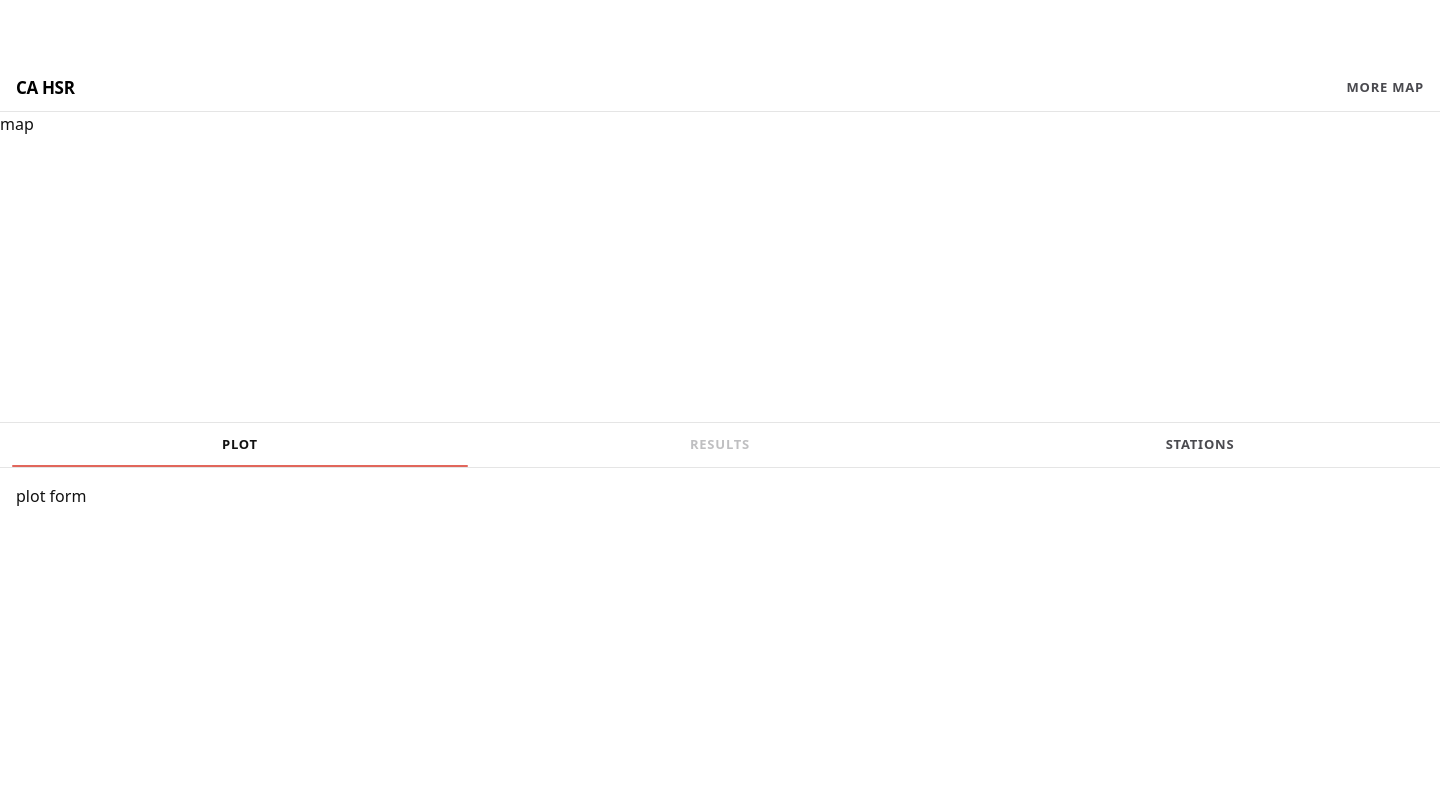
PhoneMapPage › has a panel toggle button that says whether the panel is expanded
Click the button with test id "phone-panel-toggle" at point(1385, 88), box [1346,78,1424,97]
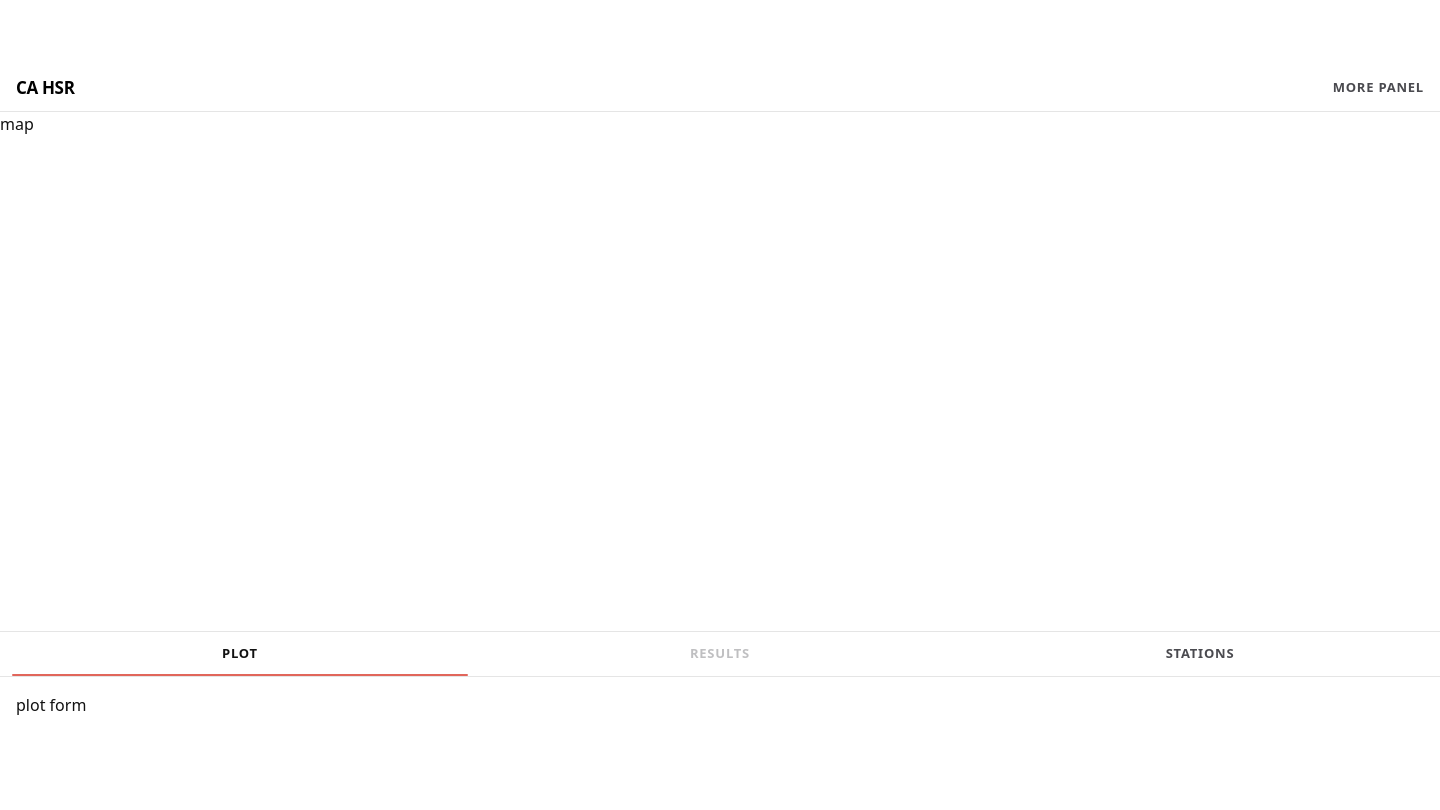
Result: the button with test id "phone-panel-toggle" is collapsed
Click the button with test id "phone-panel-toggle" at point(1378, 88), box [1333,78,1424,97]
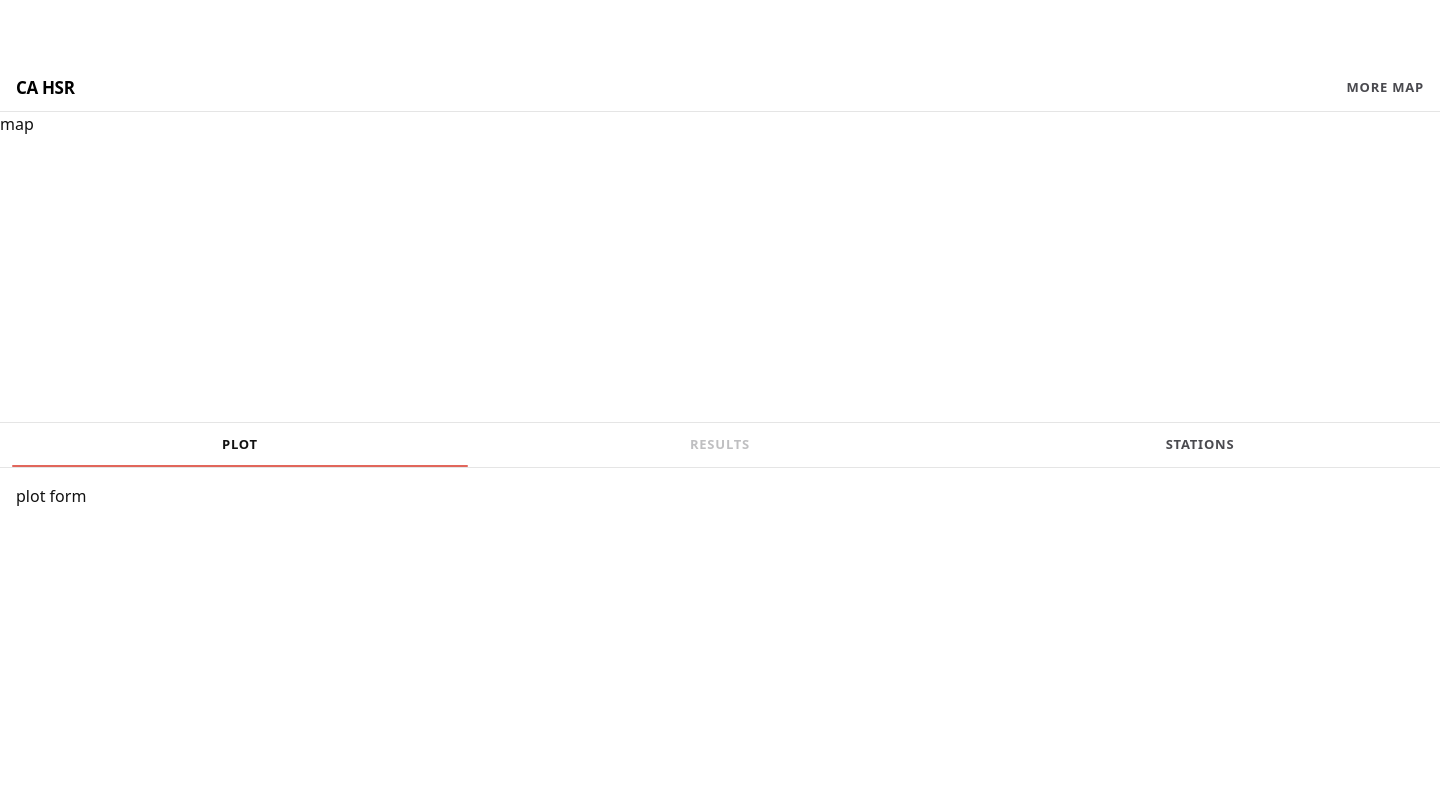
Result: the button with test id "phone-panel-toggle" is expanded at [1346,78,1424,97]
